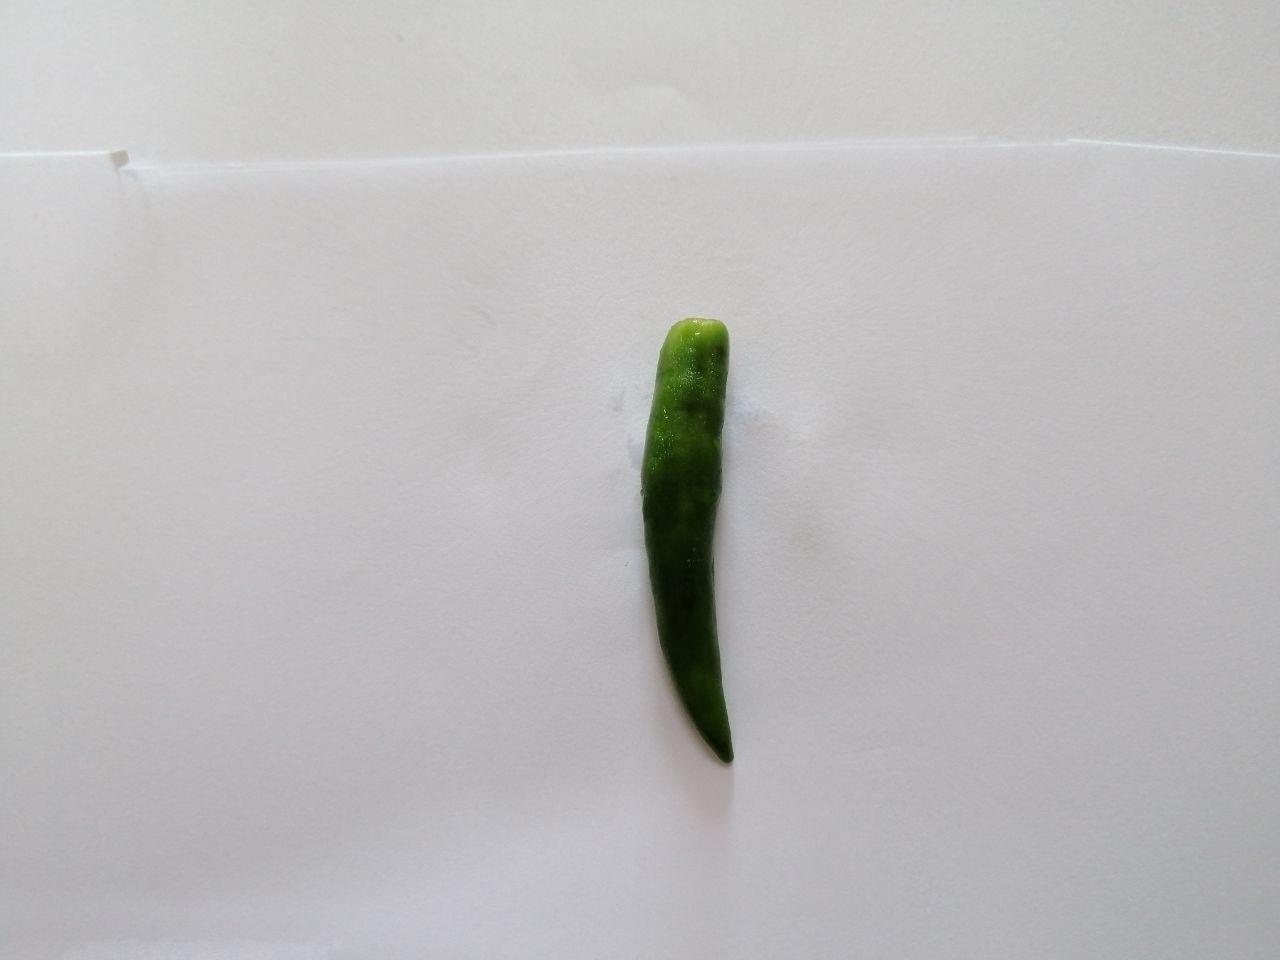lada hijau: (630, 297, 808, 786)
